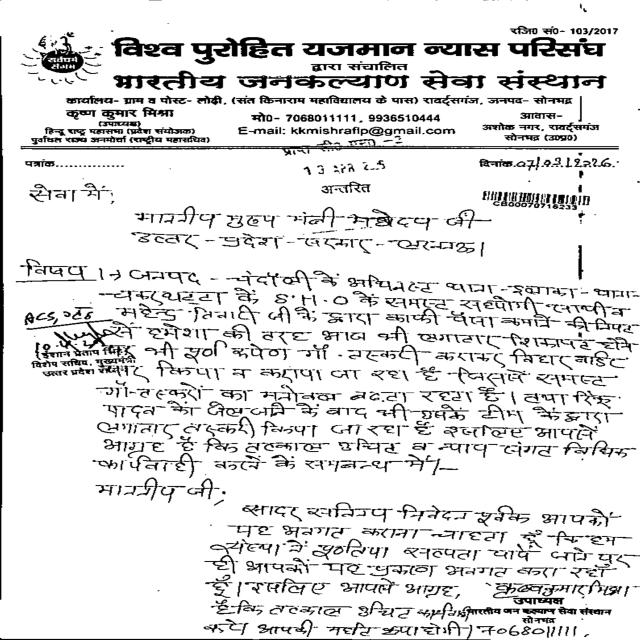antritgovtstamp: (268, 134, 416, 197)
barcode: (478, 187, 594, 214)
partylogo: (13, 28, 113, 89)
signnamestamp: (32, 320, 150, 380)
